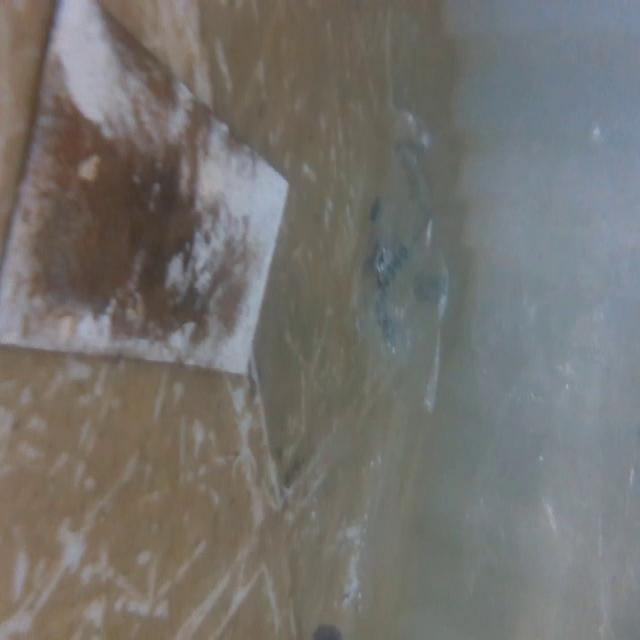metal: (3, 0, 292, 395)
plastic bags: (460, 116, 632, 640), (356, 87, 449, 410)
plastic bottle: (302, 433, 404, 640)
